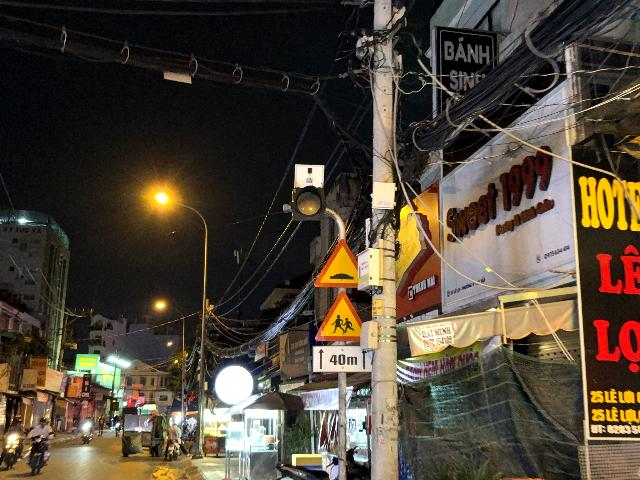duong-co-go-giam-toc: (315, 239, 358, 288)
tre-em-qua-duong: (315, 290, 363, 341)
